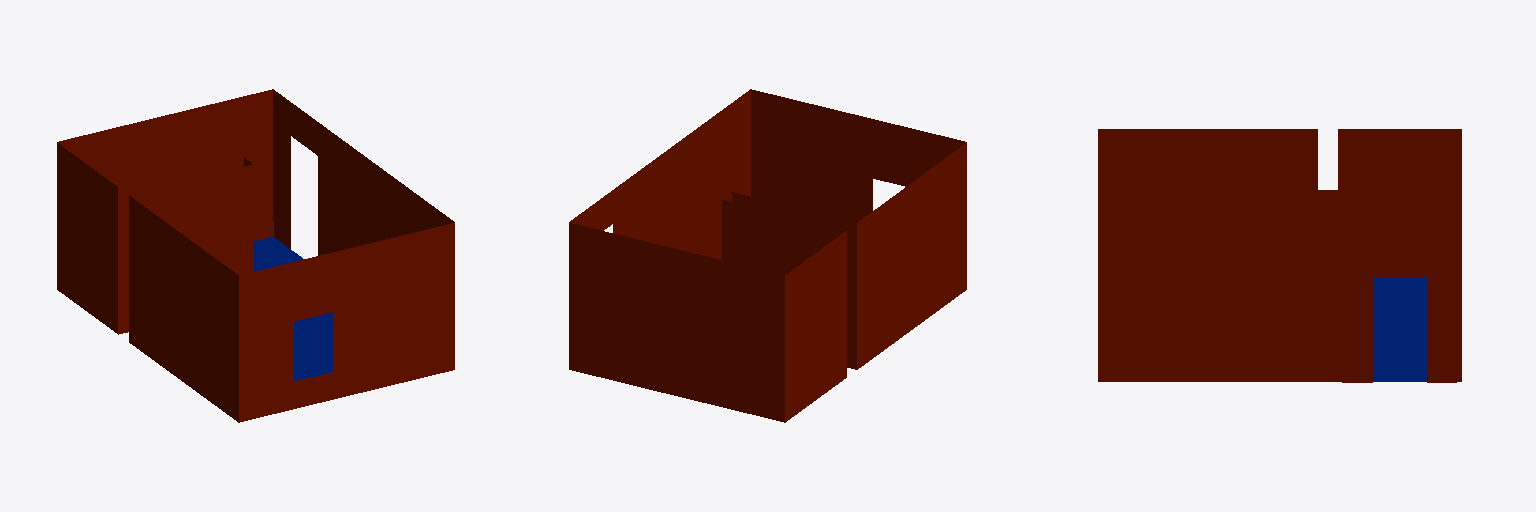
The model's file is habitacion.obj.
3 renders of one model, left to right at view 1: azimuth 30°, elevation 25°; view 2: azimuth 150°, elevation 25°; view 3: azimuth 270°, elevation 25°, orthographic.
Visible parts, largest first — view 1: polySurface20 Recinto group1; view 2: polySurface20 Recinto group1; view 3: polySurface20 Recinto group1.
Boxes of the visible parts, box(x1,y1,x2,y2) form: polySurface20 Recinto group1: box(57, 89, 454, 422); polySurface20 Recinto group1: box(569, 89, 966, 422); polySurface20 Recinto group1: box(1098, 129, 1461, 382).
Bounding box in the file's own units: 10.35 × 6.72 × 15.06.